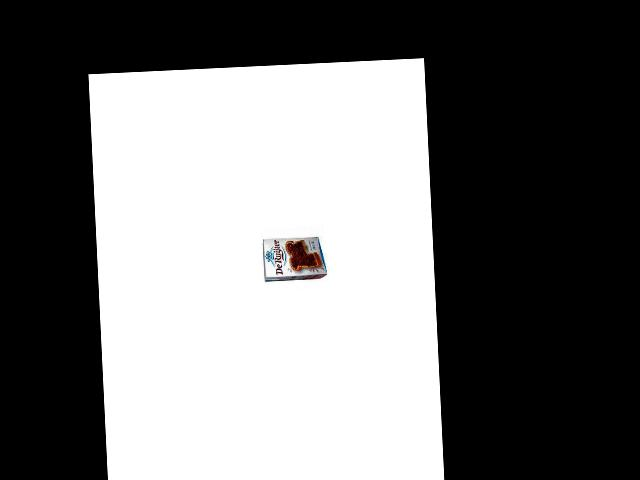chocolate: (258, 230, 326, 287)
